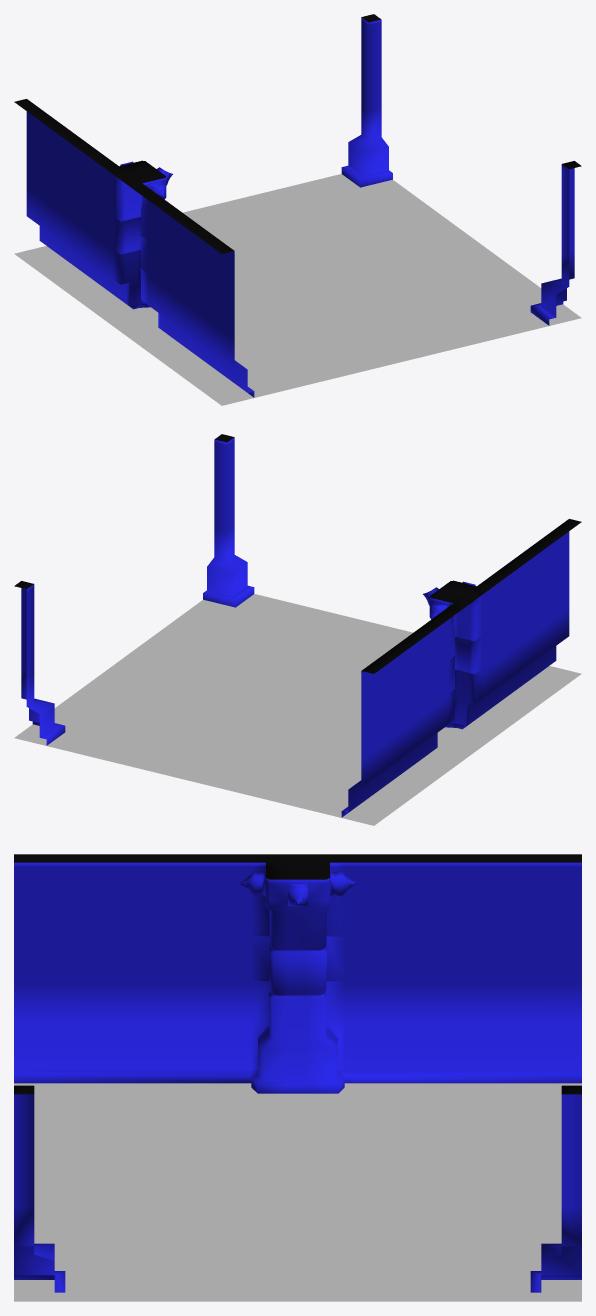
File: S_Cell_11.fbx
3 renders of one model, top to bottom at view 1: azimuth 30°, elevation 25°; view 2: azimuth 150°, elevation 25°; view 3: azimuth 270°, elevation 25°, orthographic. The views are drawn at different scales.
Parts seen in each view (by area): view 1: S_Ground, Wall_I_low.002, Wall_Pillar_low.003, Wall_Pillar_low.002; view 2: S_Ground, Wall_I_low.002, Wall_Pillar_low.002, Wall_Pillar_low.003; view 3: Wall_I_low.002, S_Ground, Wall_Pillar_low.002, Wall_Pillar_low.003.
Part boxes in pixels (<box>): S_Ground: <box>14,174,581,405</box>; Wall_I_low.002: <box>14,99,254,397</box>; Wall_Pillar_low.003: <box>341,14,392,187</box>; Wall_Pillar_low.002: <box>530,161,581,325</box>; S_Ground: <box>14,594,581,825</box>; Wall_I_low.002: <box>341,519,581,817</box>; Wall_Pillar_low.002: <box>203,434,254,607</box>; Wall_Pillar_low.003: <box>14,581,65,745</box>; Wall_I_low.002: <box>14,854,581,1093</box>; S_Ground: <box>14,1083,581,1301</box>; Wall_Pillar_low.002: <box>14,1085,65,1292</box>; Wall_Pillar_low.003: <box>530,1085,581,1292</box>.
Size of the model in its own units: 20 by 8.06 by 20.
